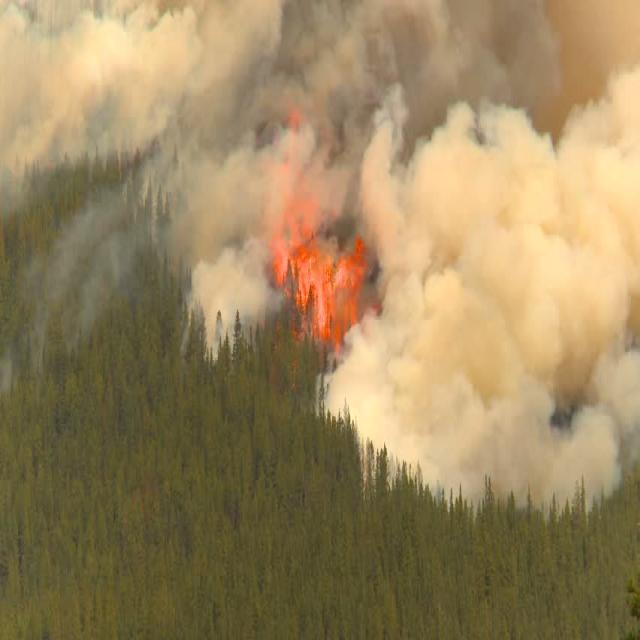Fire: (266, 194, 348, 343)
Smoke: (95, 23, 618, 472)
